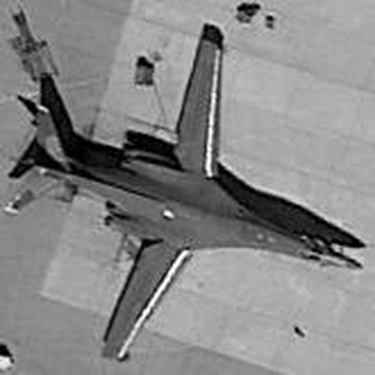airplane: (5, 19, 367, 364)
